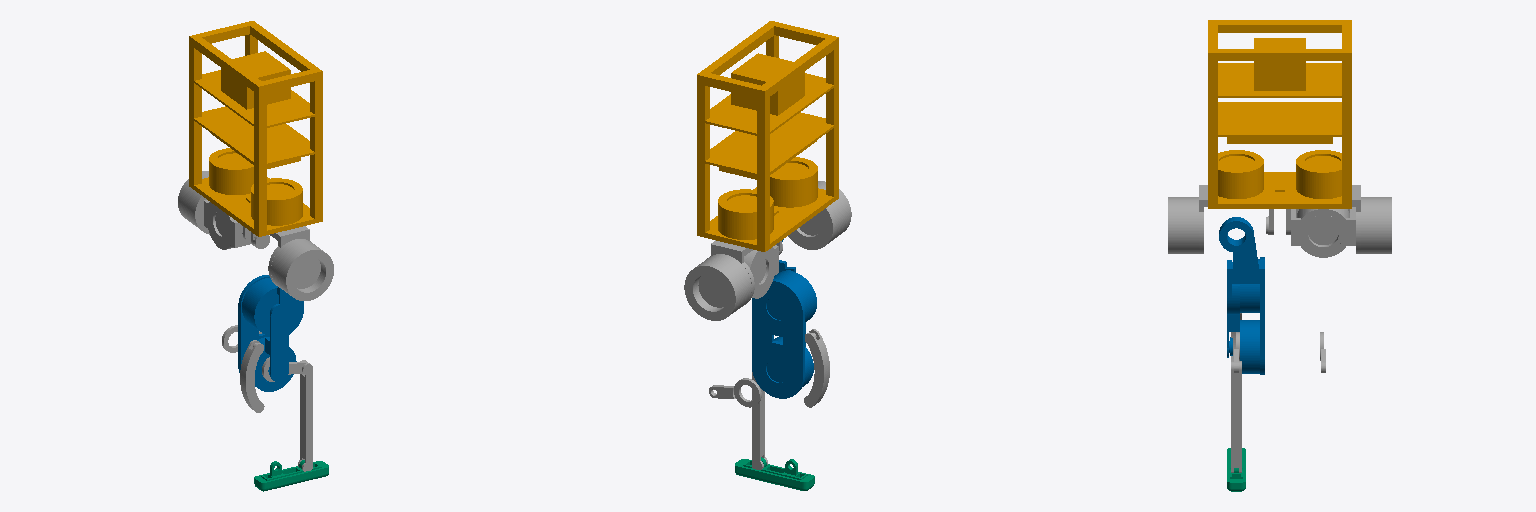
URDF robot description (v6biped_urdf_v4_squarefoot):
<?xml version="1.0" ?>
<robot name="v6biped_urdf_v4_squarefoot">

<material name="silver">
  <color rgba="0.700 0.700 0.700 1.000"/>
</material>

<link name="base_link">
  <inertial>
    <origin xyz="0 0 0.12388403789312377" rpy="0 0 0"/> 
      <!-- <origin xyz="0.0 0 0.12388403789312377" rpy="0 0 0"/> -->
    <mass value="9.619993857102388"/>
    <inertia ixx="0.16800197225609406" iyy="0.11452773293356491" izz="0.08167906458042659" ixy="-7.567101647509845e-18" iyz="3.5823713287208697e-17" ixz="1.0574368047855385e-19"/>
  </inertial>
  <visual>
    <origin xyz="0 0 0" rpy="0 0 0"/>
    <geometry>
      <mesh filename="meshes/base_link.stl" scale="0.001 0.001 0.001"/>
    </geometry>
    <material name="silver"/>
    <material/>
  </visual>
  <collision>
    <origin xyz="0 0 0.1749" rpy="0 0 0"/>
    <geometry>
       <box size="0.160 0.300 0.365"/>
    </geometry>
  </collision>
</link>

<link name="01_L_hip_z_1">
  <inertial>
    <origin xyz="-1.1308239814118704e-17 0.07453971578674487 -0.07348511429496346" rpy="0 0 0"/>
    <mass value="2.908965938735465"/>
    <inertia ixx="0.014281037235361088" iyy="0.006972829556692619" izz="0.012359988335792702" ixy="2.792240021015808e-20" iyz="0.003102675102721171" ixz="-9.212449889174042e-19"/>
  </inertial>
  <visual>
    <origin xyz="0.0 -0.09 -0.0003" rpy="0 0 0"/>
    <geometry>
      <mesh filename="meshes/01_L_hip_z_1.stl" scale="0.001 0.001 0.001"/>
    </geometry>
    <material name="silver"/>
  </visual>
</link>

<link name="02_L_hip_y_1">
  <inertial>
    <origin xyz="0.0009043176082057605 -0.07583170485891583 -1.3877787807814457e-17" rpy="0 0 0"/>
    <mass value="2.0377990564836805"/>
    <inertia ixx="0.004244592152071132" iyy="0.002598711164799511" izz="0.003650015737189906" ixy="2.1529548114893157e-06" iyz="0.0" ixz="-4.607859233063394e-19"/>
  </inertial>
  <visual>
    <origin xyz="0.0 -0.168 0.087" rpy="0 0 0"/>
    <geometry>
      <mesh filename="meshes/02_L_hip_y_1.stl" scale="0.001 0.001 0.001"/>
    </geometry>
    <material name="silver"/>
  </visual>
</link>

<link name="03_L_hip_x_COLLISION_1">
  <inertial>
    <origin xyz="-0.023908482594606855 -0.02426485983445889 -0.18585601361777113" rpy="0 0 0"/>
    <mass value="3.5805439636700287"/>
    <inertia ixx="0.027780896864440463" iyy="0.029615218880743976" izz="0.005221574111910782" ixy="-0.00037958734093934785" iyz="-0.0017591880380498914" ixz="-0.0027718637898816035"/>
  </inertial>
  <visual>
    <origin xyz="-0.0272 -0.091 0.087" rpy="0 0 0"/>
    <geometry>
      <mesh filename="meshes/03_L_hip_x_COLLISION_1.stl" scale="0.001 0.001 0.001"/>
    </geometry>
    <material name="silver"/>
    <material/>
  </visual>
  <collision>
    <origin xyz="-0.0272 -0.02 -0.205" rpy="0 0 0"/>
    <geometry>
      <box size="0.12 0.08 0.27"/>
    </geometry>
  </collision>
</link>

<link name="04_L_knee_rocker_1">
  <inertial>
    <origin xyz="-0.01761954319685695 0.0025763920301442172 -0.028197163363816474" rpy="0 0 0"/>
    <mass value="0.15488700659123303"/>
    <inertia ixx="0.00015024114816780502" iyy="0.0002236908852147109" izz="8.077275595596428e-05" ixy="-7.510072938964019e-06" iyz="-1.2018629039793269e-05" ixz="-7.121565568717503e-05"/>
  </inertial>
  <visual>
    <origin xyz="0.003 -0.095774 0.228" rpy="0 0 0"/>
    <geometry>
      <mesh filename="meshes/04_L_knee_rocker_1.stl" scale="0.001 0.001 0.001"/>
    </geometry>
    <material name="silver"/>
  </visual>
</link>

<link name="05_L_knee_link_1">
  <inertial>
    <origin xyz="-0.01531283689309905 0.0 -0.0700003286540784" rpy="0 0 0"/>
    <mass value="0.21980714584506778"/>
    <inertia ixx="0.000441907788744339" iyy="0.00045427482803899605" izz="3.542795472807154e-05" ixy="0.0" iyz="8.673617379884035e-19" ixz="-8.673617379884035e-19"/>
  </inertial>
  <visual>
    <origin xyz="0.050693 -0.091074 0.304324" rpy="0 0 0"/>
    <geometry>
      <mesh filename="meshes/05_L_knee_link_1.stl" scale="0.001 0.001 0.001"/>
    </geometry>
    <material name="silver"/>
  </visual>
</link>

<link name="06_L_ankle_rocker_1">
  <inertial>
    <origin xyz="0.024092446226604218 0.005993892267881898 -0.004248148300943111" rpy="0 0 0"/>
    <mass value="0.1199950147888805"/>
    <inertia ixx="2.8507068069210523e-05" iyy="0.0001482193650997471" izz="0.00012238696786957197" ixy="-6.666896206283617e-06" iyz="1.1755536787711948e-06" ixz="1.7084744592853088e-05"/>
  </inertial>
  <visual>
    <origin xyz="0.003 -0.082774 0.368" rpy="0 0 0"/>
    <geometry>
      <mesh filename="meshes/06_L_ankle_rocker_1.stl" scale="0.001 0.001 0.001"/>
    </geometry>
    <material name="silver"/>
  </visual>
</link>

<link name="07_L_shank_link_main_1">
  <inertial>
    <origin xyz="-0.0017014067304576396 -0.005734080520731988 -0.11013075690935742" rpy="0 0 0"/>
    <mass value="0.45787218753949377"/>
    <inertia ixx="0.002498857755266398" iyy="0.002547825121452449" izz="8.860874449439669e-05" ixy="-5.966718175119462e-07" iyz="-3.2662126914509426e-05" ixz="2.6336370383188163e-05"/>
  </inertial>
  <visual>
    <origin xyz="0.003 -0.097574 0.368" rpy="0 0 0"/>
    <geometry>
      <mesh filename="meshes/07_L_shank_link_main_1.stl" scale="0.001 0.001 0.001"/>
    </geometry>
    <material name="silver"/>
  </visual>
</link>

<link name="08_L_shank_ankle_link_1">
  <inertial>
    <origin xyz="0.03527776433437844 8.326672684688674e-17 -0.01750000000000007" rpy="0 0 0"/>
    <mass value="0.2800894766748255"/>
    <inertia ixx="0.0014663255129204467" iyy="0.001460272166081078" izz="2.2626448490447454e-05" ixy="-3.187554387107383e-17" iyz="1.734723475976807e-18" ixz="1.734723475976807e-18"/>
  </inertial>
  <visual>
    <origin xyz="-0.038681 -0.091074 0.481024" rpy="0 0 0"/>
    <geometry>
      <mesh filename="meshes/08_L_shank_ankle_link_1.stl" scale="0.001 0.001 0.001"/>
    </geometry>
    <material name="silver"/>
  </visual>
</link>

<link name="09_L_foot_square_COLLISION_1">
  <inertial>
    <origin xyz="0.036260429903504456 8.326672684688674e-17 -0.025750661403168285" rpy="0 0 0"/>
    <mass value="0.25"/>
    <!-- <mass value="0.18500497869847327"/> -->
    <inertia ixx="3.6373153786239953e-05" iyy="0.00041820274019029047" izz="0.00041850614059682424" ixy="2.6020852139652106e-17" iyz="-1.734723475976807e-18" ixz="1.025753889188517e-05"/>
  </inertial>
  <visual>
    <origin xyz="0.003 -0.091074 0.603" rpy="0 0 0"/>
    <geometry>
      <mesh filename="meshes/09_L_foot_square_COLLISION_1.stl" scale="0.001 0.001 0.001"/>
    </geometry>
    <material name="silver"/>
    <material/>
  </visual>
  <collision>
    <origin xyz="0.003 -0.091074 0.603" rpy="0 0 0"/>
    <geometry>
      <mesh filename="meshes/09_L_foot_square_COLLISION_1.stl" scale="0.001 0.001 0.001"/>
    </geometry>
  </collision>
</link>

<link name="10_R_hip_z_1">
  <inertial>
    <origin xyz="-8.552025948177327e-18 -0.07453971578674481 -0.07348511429497799" rpy="0 0 0"/>
    <mass value="2.9089659387354665"/>
    <inertia ixx="0.014281037235443772" iyy="0.0069728295565254315" izz="0.012359988335542804" ixy="-2.1926362563069666e-18" iyz="-0.0031026751027150856" ixz="-1.3848870923820681e-18"/>
  </inertial>
  <visual>
    <origin xyz="0.0 0.09 -0.0003" rpy="0 0 0"/>
    <geometry>
      <mesh filename="meshes/10_R_hip_z_1.stl" scale="0.001 0.001 0.001"/>
    </geometry>
    <material name="silver"/>
  </visual>
</link>

<link name="11_R_hip_y_1">
  <inertial>
    <origin xyz="0.0009043176082057572 0.07583170485891579 -2.7755575615628914e-17" rpy="0 0 0"/>
    <mass value="2.0377990564836805"/>
    <inertia ixx="0.004244592152071132" iyy="0.002598711164799509" izz="0.0036500157371899024" ixy="-2.1529548114918636e-06" iyz="0.0" ixz="-4.607859233063394e-19"/>
  </inertial>
  <visual>
    <origin xyz="0.0 0.168 0.087" rpy="0 0 0"/>
    <geometry>
      <mesh filename="meshes/11_R_hip_y_1.stl" scale="0.001 0.001 0.001"/>
    </geometry>
    <material name="silver"/>
  </visual>
</link>

<link name="12_R_hip_x_COLLISION_1">
  <inertial>
    <origin xyz="-0.02390848259462098 0.024264859834458904 -0.18585601361777102" rpy="0 0 0"/>
    <mass value="3.5805439636700305"/>
    <inertia ixx="0.02778089686473184" iyy="0.029615218880938154" izz="0.005221574111813728" ixy="0.0003795873409377429" iyz="0.0017591880380499053" ixz="-0.002771863789880305"/>
  </inertial>
  <visual>
    <origin xyz="-0.0272 0.091 0.087" rpy="0 0 0"/>
    <geometry>
      <mesh filename="meshes/12_R_hip_x_COLLISION_1.stl" scale="0.001 0.001 0.001"/>
    </geometry>
    <material name="silver"/>
    <material/>
  </visual>
  <collision>
    <origin xyz="-0.0272 0.02 -0.205" rpy="0 0 0"/>
    <geometry>
      <box size="0.12 0.08 0.27"/>
    </geometry>
  </collision>
</link>

<link name="13_R_knee_rocker_1">
  <inertial>
    <origin xyz="-0.017619543196855627 -0.0025763920301442172 -0.028197163363816863" rpy="0 0 0"/>
    <mass value="0.15488700659123308"/>
    <inertia ixx="0.00015024114816484732" iyy="0.00022369088521269342" izz="8.077275595690494e-05" ixy="7.510072938963586e-06" iyz="1.2018629039793702e-05" ixz="-7.121565568897037e-05"/>
  </inertial>
  <visual>
    <origin xyz="0.003 0.095774 0.228" rpy="0 0 0"/>
    <geometry>
      <mesh filename="meshes/13_R_knee_rocker_1.stl" scale="0.001 0.001 0.001"/>
    </geometry>
    <material name="silver"/>
  </visual>
</link>

<link name="14_R_knee_link_1">
  <inertial>
    <origin xyz="-0.01531283689309905 0.0 -0.0700003286540784" rpy="0 0 0"/>
    <mass value="0.21980714584506778"/>
    <inertia ixx="0.000441907788744339" iyy="0.00045427482803899605" izz="3.542795472807154e-05" ixy="0.0" iyz="-8.673617379884035e-19" ixz="-8.673617379884035e-19"/>
  </inertial>
  <visual>
    <origin xyz="0.050693 0.091074 0.304324" rpy="0 0 0"/>
    <geometry>
      <mesh filename="meshes/14_R_knee_link_1.stl" scale="0.001 0.001 0.001"/>
    </geometry>
    <material name="silver"/>
  </visual>
</link>

<link name="15_R_ankle_rocker_1">
  <inertial>
    <origin xyz="0.024092446226739176 -0.005993892267881884 -0.004248148301098875" rpy="0 0 0"/>
    <mass value="0.11999501478888035"/>
    <inertia ixx="2.8507068314108375e-05" iyy="0.00014821936526217966" izz="0.00012238696778710603" ixy="6.666896206294242e-06" iyz="-1.1755536787824705e-06" ixz="1.7084744489519405e-05"/>
  </inertial>
  <visual>
    <origin xyz="0.003 0.082774 0.368" rpy="0 0 0"/>
    <geometry>
      <mesh filename="meshes/15_R_ankle_rocker_1.stl" scale="0.001 0.001 0.001"/>
    </geometry>
    <material name="silver"/>
  </visual>
</link>

<link name="16_R_shank_link_main_1">
  <inertial>
    <origin xyz="-0.0017014067304932257 0.005734080520732071 -0.11013075690935742" rpy="0 0 0"/>
    <mass value="0.45787218753949305"/>
    <inertia ixx="0.002498857755360809" iyy="0.0025478251215153153" izz="8.860874446289455e-05" ixy="5.966718174119556e-07" iyz="3.2662126914509426e-05" ixz="2.6336370384982518e-05"/>
  </inertial>
  <visual>
    <origin xyz="0.003 0.097574 0.368" rpy="0 0 0"/>
    <geometry>
      <mesh filename="meshes/16_R_shank_link_main_1.stl" scale="0.001 0.001 0.001"/>
    </geometry>
    <material name="silver"/>
  </visual>
</link>

<link name="17_R_shank_ankle_link_1">
  <inertial>
    <origin xyz="0.03527776433437844 0.0 -0.01750000000000007" rpy="0 0 0"/>
    <mass value="0.2800894766748255"/>
    <inertia ixx="0.0014663255129204467" iyy="0.001460272166081078" izz="2.2626448490448755e-05" ixy="-3.165870343657673e-17" iyz="0.0" ixz="1.734723475976807e-18"/>
  </inertial>
  <visual>
    <origin xyz="-0.038681 0.091074 0.481024" rpy="0 0 0"/>
    <geometry>
      <mesh filename="meshes/17_R_shank_ankle_link_1.stl" scale="0.001 0.001 0.001"/>
    </geometry>
    <material name="silver"/>
  </visual>
</link>

<link name="18_R_foot_square_COLLISION_1">
  <inertial>
    <origin xyz="0.03626042990350446 -1.3877787807814457e-17 -0.025750661403168174" rpy="0 0 0"/>
    <mass value="0.25"/>
    <!-- <mass value="0.18500497869847327"/> -->
    <inertia ixx="3.637315378626771e-05" iyy="0.00041820274019029047" izz="0.0004185061405968238" ixy="2.6020852139652106e-17" iyz="0.0" ixz="1.025753889188517e-05"/>
  </inertial>
  <visual>
    <origin xyz="0.003 0.091074 0.603" rpy="0 0 0"/>
    <geometry>
      <mesh filename="meshes/18_R_foot_square_COLLISION_1.stl" scale="0.001 0.001 0.001"/>
    </geometry>
    <material name="silver"/>
    <material/>
  </visual>
  <collision>
    <origin xyz="0.003 0.091074 0.603" rpy="0 0 0"/>
    <geometry>
      <mesh filename="meshes/18_R_foot_square_COLLISION_1.stl" scale="0.001 0.001 0.001"/>
    </geometry>
  </collision>
</link>

<joint name="01_L_hip_z" type="revolute">
  <origin xyz="0.0 0.09 0.0003" rpy="0 0 0"/>
  <parent link="base_link"/>
  <child link="01_L_hip_z_1"/>
  <axis xyz="0.0 0.0 -1.0"/>
  <limit upper="1.570796" lower="-1.570796" effort="81" velocity="13.333"/>
</joint>
<transmission name="01_L_hip_z_tran">
  <type>transmission_interface/SimpleTransmission</type>
  <joint name="01_L_hip_z">
    <hardwareInterface>PositionJointInterface</hardwareInterface>
  </joint>
  <actuator name="01_L_hip_z_actr">
    <hardwareInterface>PositionJointInterface</hardwareInterface>
    <mechanicalReduction>1</mechanicalReduction>
  </actuator>
</transmission>

<joint name="02_L_hip_y" type="revolute">
  <origin xyz="0.0 0.078 -0.0873" rpy="0 0 0"/>
  <parent link="01_L_hip_z_1"/>
  <child link="02_L_hip_y_1"/>
  <axis xyz="0.0 -1.0 0.0"/>
  <limit upper="1.570796" lower="-1.570796" effort="90" velocity="12"/>
</joint>
<transmission name="02_L_hip_y_tran">
  <type>transmission_interface/SimpleTransmission</type>
  <joint name="02_L_hip_y">
    <hardwareInterface>PositionJointInterface</hardwareInterface>
  </joint>
  <actuator name="02_L_hip_y_actr">
    <hardwareInterface>PositionJointInterface</hardwareInterface>
    <mechanicalReduction>1</mechanicalReduction>
  </actuator>
</transmission>

<joint name="03_L_hip_x" type="revolute">
  <origin xyz="0.0272 -0.077 0.0" rpy="0 0 0"/>
  <parent link="02_L_hip_y_1"/>
  <child link="03_L_hip_x_COLLISION_1"/>
  <axis xyz="1.0 0.0 0.0"/>
  <limit upper="0.628319" lower="-0.628319" effort="81" velocity="13.333"/>
</joint>
<transmission name="03_L_hip_x_tran">
  <type>transmission_interface/SimpleTransmission</type>
  <joint name="03_L_hip_x">
    <hardwareInterface>PositionJointInterface</hardwareInterface>
  </joint>
  <actuator name="03_L_hip_x_actr">
    <hardwareInterface>PositionJointInterface</hardwareInterface>
    <mechanicalReduction>1</mechanicalReduction>
  </actuator>
</transmission>

<joint name="04_L_knee_rocker_RIGID" type="fixed">
  <origin xyz="-0.0302 0.004774 -0.141" rpy="0 0 0"/>
  <parent link="03_L_hip_x_COLLISION_1"/>
  <child link="04_L_knee_rocker_1"/>
</joint>

<joint name="05_L_knee_link_RIGID" type="fixed">
  <origin xyz="-0.047693 -0.0047 -0.076324" rpy="0 0 0"/>
  <parent link="04_L_knee_rocker_1"/>
  <child link="05_L_knee_link_1"/>
</joint>

<joint name="06_L_ankle_rocker_RIGID" type="fixed">
  <origin xyz="-0.0302 -0.008226 -0.281" rpy="0 0 0"/>
  <parent link="03_L_hip_x_COLLISION_1"/>
  <child link="06_L_ankle_rocker_1"/>
</joint>

<joint name="07_L_shank_link_main" type="revolute">
  <origin xyz="-0.0302 0.006574 -0.281" rpy="0 0 0"/>
  <parent link="03_L_hip_x_COLLISION_1"/>
  <child link="07_L_shank_link_main_1"/>
  <axis xyz="0.0 1.0 0.0"/>
  <limit upper="1.745329" lower="-0.087266" effort="81" velocity="13.333"/>
</joint>
<transmission name="07_L_shank_link_main_tran">
  <type>transmission_interface/SimpleTransmission</type>
  <joint name="07_L_shank_link_main">
    <hardwareInterface>PositionJointInterface</hardwareInterface>
  </joint>
  <actuator name="07_L_shank_link_main_actr">
    <hardwareInterface>PositionJointInterface</hardwareInterface>
    <mechanicalReduction>1</mechanicalReduction>
  </actuator>
</transmission>

<joint name="08_L_shank_ankle_link_RIGID" type="fixed">
  <origin xyz="0.041681 -0.0065 -0.113024" rpy="0 0 0"/>
  <parent link="07_L_shank_link_main_1"/>
  <child link="08_L_shank_ankle_link_1"/>
</joint>

<joint name="09_L_foot" type="revolute">
  <origin xyz="0.0 -0.0065 -0.235" rpy="0 0 0"/>
  <parent link="07_L_shank_link_main_1"/>
  <child link="09_L_foot_square_COLLISION_1"/>
  <axis xyz="0.0 1.0 0.0"/>
  <limit upper="0.872665" lower="-0.872665" effort="45" velocity="10.667"/>
</joint>
<transmission name="09_L_foot_tran">
  <type>transmission_interface/SimpleTransmission</type>
  <joint name="09_L_foot">
    <hardwareInterface>PositionJointInterface</hardwareInterface>
  </joint>
  <actuator name="09_L_foot_actr">
    <hardwareInterface>PositionJointInterface</hardwareInterface>
    <mechanicalReduction>1</mechanicalReduction>
  </actuator>
</transmission>

<joint name="10_R_hip_z" type="revolute">
  <origin xyz="0.0 -0.09 0.0003" rpy="0 0 0"/>
  <parent link="base_link"/>
  <child link="10_R_hip_z_1"/>
  <axis xyz="0.0 0.0 -1.0"/>
  <limit upper="1.570796" lower="-1.570796" effort="81" velocity="13.333"/>
</joint>
<transmission name="10_R_hip_z_tran">
  <type>transmission_interface/SimpleTransmission</type>
  <joint name="10_R_hip_z">
    <hardwareInterface>PositionJointInterface</hardwareInterface>
  </joint>
  <actuator name="10_R_hip_z_actr">
    <hardwareInterface>PositionJointInterface</hardwareInterface>
    <mechanicalReduction>1</mechanicalReduction>
  </actuator>
</transmission>

<joint name="11_R_hip_y" type="revolute">
  <origin xyz="0.0 -0.078 -0.0873" rpy="0 0 0"/>
  <parent link="10_R_hip_z_1"/>
  <child link="11_R_hip_y_1"/>
  <axis xyz="0.0 1.0 0.0"/>
  <limit upper="1.570796" lower="-1.570796" effort="90" velocity="12"/>
</joint>
<transmission name="11_R_hip_y_tran">
  <type>transmission_interface/SimpleTransmission</type>
  <joint name="11_R_hip_y">
    <hardwareInterface>PositionJointInterface</hardwareInterface>
  </joint>
  <actuator name="11_R_hip_y_actr">
    <hardwareInterface>PositionJointInterface</hardwareInterface>
    <mechanicalReduction>1</mechanicalReduction>
  </actuator>
</transmission>

<joint name="12_R_hip_x" type="revolute">
  <origin xyz="0.0272 0.077 0.0" rpy="0 0 0"/>
  <parent link="11_R_hip_y_1"/>
  <child link="12_R_hip_x_COLLISION_1"/>
  <axis xyz="1.0 0.0 0.0"/>
  <limit upper="0.628319" lower="-0.628319" effort="81" velocity="13.333"/>
</joint>
<transmission name="12_R_hip_x_tran">
  <type>transmission_interface/SimpleTransmission</type>
  <joint name="12_R_hip_x">
    <hardwareInterface>PositionJointInterface</hardwareInterface>
  </joint>
  <actuator name="12_R_hip_x_actr">
    <hardwareInterface>PositionJointInterface</hardwareInterface>
    <mechanicalReduction>1</mechanicalReduction>
  </actuator>
</transmission>

<joint name="13_R_knee_rocker_RIGID" type="fixed">
  <origin xyz="-0.0302 -0.004774 -0.141" rpy="0 0 0"/>
  <parent link="12_R_hip_x_COLLISION_1"/>
  <child link="13_R_knee_rocker_1"/>
</joint>

<joint name="14_R_knee_link_PASSIVE" type="fixed">
  <origin xyz="-0.047693 0.0047 -0.076324" rpy="0 0 0"/>
  <parent link="13_R_knee_rocker_1"/>
  <child link="14_R_knee_link_1"/>
</joint>

<joint name="15_R_ankle_rocker_RIGID" type="fixed">
  <origin xyz="-0.0302 0.008226 -0.281" rpy="0 0 0"/>
  <parent link="12_R_hip_x_COLLISION_1"/>
  <child link="15_R_ankle_rocker_1"/>
</joint>

<joint name="16_R_shank_link_main" type="revolute">
  <origin xyz="-0.0302 -0.006574 -0.281" rpy="0 0 0"/>
  <parent link="12_R_hip_x_COLLISION_1"/>
  <child link="16_R_shank_link_main_1"/>
  <axis xyz="0.0 -1.0 0.0"/>
  <limit upper="0.087266" lower="-1.745329" effort="81" velocity="13.333"/>
</joint>
<transmission name="16_R_shank_link_main_tran">
  <type>transmission_interface/SimpleTransmission</type>
  <joint name="16_R_shank_link_main">
    <hardwareInterface>PositionJointInterface</hardwareInterface>
  </joint>
  <actuator name="16_R_shank_link_main_actr">
    <hardwareInterface>PositionJointInterface</hardwareInterface>
    <mechanicalReduction>1</mechanicalReduction>
  </actuator>
</transmission>

<joint name="17_R_shank_ankle_link_RIGID" type="fixed">
  <origin xyz="0.041681 0.0065 -0.113024" rpy="0 0 0"/>
  <parent link="16_R_shank_link_main_1"/>
  <child link="17_R_shank_ankle_link_1"/>
</joint>

<joint name="18_R_foot" type="revolute">
  <origin xyz="0.0 0.0065 -0.235" rpy="0 0 0"/>
  <parent link="16_R_shank_link_main_1"/>
  <child link="18_R_foot_square_COLLISION_1"/>
  <axis xyz="0.0 -1.0 0.0"/>
  <limit upper="0.872665" lower="-0.872665" effort="45" velocity="10.667"/>
</joint>
<transmission name="18_R_foot_tran">
  <type>transmission_interface/SimpleTransmission</type>
  <joint name="18_R_foot">
    <hardwareInterface>PositionJointInterface</hardwareInterface>
  </joint>
  <actuator name="18_R_foot_actr">
    <hardwareInterface>PositionJointInterface</hardwareInterface>
    <mechanicalReduction>1</mechanicalReduction>
  </actuator>
</transmission>

</robot>

--- Facts derived from the render (not from the file) ---
The picture shows the robot from 3 angles, left to right: view 1: azimuth 30°, elevation 25°; view 2: azimuth 150°, elevation 25°; view 3: azimuth 270°, elevation 25°; orthographic projection.
Robot: v6biped_urdf_v4_squarefoot — 19 links, 18 joints (10 revolute, 8 fixed); root link base_link; default pose: every joint at zero.
Visible links, largest first — view 1: base_link, 12_R_hip_x_COLLISION_1, 10_R_hip_z_1, 17_R_shank_ankle_link_1, 02_L_hip_y_1, 18_R_foot_square_COLLISION_1, 14_R_knee_link_1, 01_L_hip_z_1; view 2: base_link, 12_R_hip_x_COLLISION_1, 01_L_hip_z_1, 10_R_hip_z_1, 18_R_foot_square_COLLISION_1, 14_R_knee_link_1, 02_L_hip_y_1, 17_R_shank_ankle_link_1, 06_L_ankle_rocker_1; view 3: base_link, 12_R_hip_x_COLLISION_1, 02_L_hip_y_1, 10_R_hip_z_1, 01_L_hip_z_1, 17_R_shank_ankle_link_1, 18_R_foot_square_COLLISION_1.
Boxes of the visible links, x1=… form: base_link: x1=189, y1=21, x2=322, y2=236; 12_R_hip_x_COLLISION_1: x1=238, y1=275, x2=303, y2=391; 10_R_hip_z_1: x1=251, y1=226, x2=333, y2=300; 17_R_shank_ankle_link_1: x1=298, y1=360, x2=312, y2=471; 02_L_hip_y_1: x1=204, y1=200, x2=251, y2=249; 18_R_foot_square_COLLISION_1: x1=254, y1=460, x2=328, y2=491; 14_R_knee_link_1: x1=240, y1=340, x2=264, y2=412; 01_L_hip_z_1: x1=178, y1=171, x2=250, y2=241; base_link: x1=697, y1=21, x2=838, y2=251; 12_R_hip_x_COLLISION_1: x1=752, y1=239, x2=816, y2=398; 01_L_hip_z_1: x1=684, y1=240, x2=754, y2=320; 10_R_hip_z_1: x1=776, y1=181, x2=851, y2=254; 18_R_foot_square_COLLISION_1: x1=735, y1=457, x2=814, y2=490; 14_R_knee_link_1: x1=804, y1=329, x2=829, y2=407; 02_L_hip_y_1: x1=744, y1=245, x2=778, y2=298; 17_R_shank_ankle_link_1: x1=752, y1=372, x2=767, y2=469; 06_L_ankle_rocker_1: x1=709, y1=378, x2=761, y2=407; base_link: x1=1208, y1=20, x2=1351, y2=208; 12_R_hip_x_COLLISION_1: x1=1219, y1=217, x2=1264, y2=374; 02_L_hip_y_1: x1=1291, y1=207, x2=1355, y2=257; 10_R_hip_z_1: x1=1168, y1=185, x2=1273, y2=253; 01_L_hip_z_1: x1=1286, y1=185, x2=1391, y2=253; 17_R_shank_ankle_link_1: x1=1231, y1=361, x2=1241, y2=472; 18_R_foot_square_COLLISION_1: x1=1227, y1=448, x2=1245, y2=491.
Size in the robot's own frame: 0.2091 by 0.4696 by 0.996 metres.
10 mesh visuals loaded from 19 distinct referenced files (10 binary STL); not drawn: 9 (reference not matched to a file when rendering).